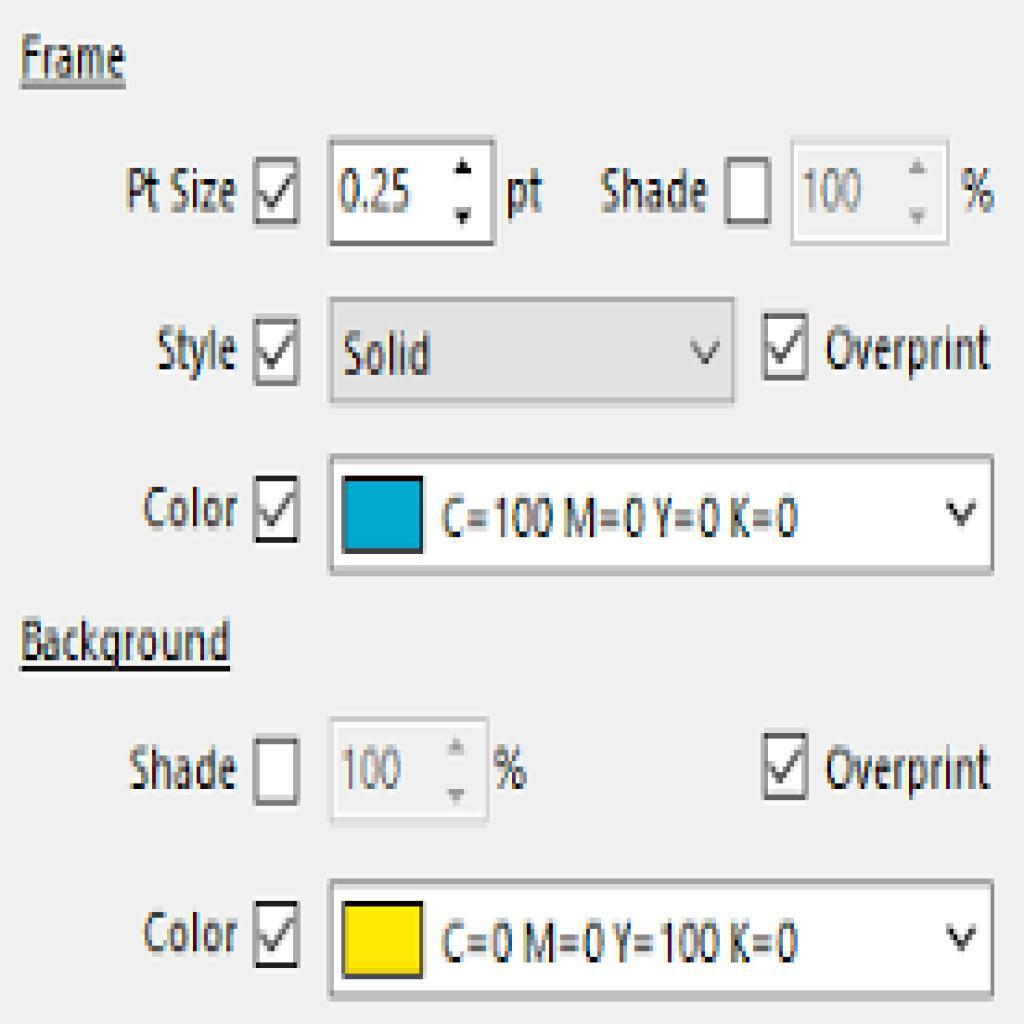checkbox: (253, 311, 304, 389), (724, 155, 775, 226), (256, 744, 306, 811), (761, 734, 807, 802), (767, 313, 813, 380), (255, 157, 303, 220), (254, 899, 301, 962), (253, 482, 299, 546)
dropdown: (332, 454, 994, 577), (333, 879, 999, 997), (325, 299, 736, 403)
